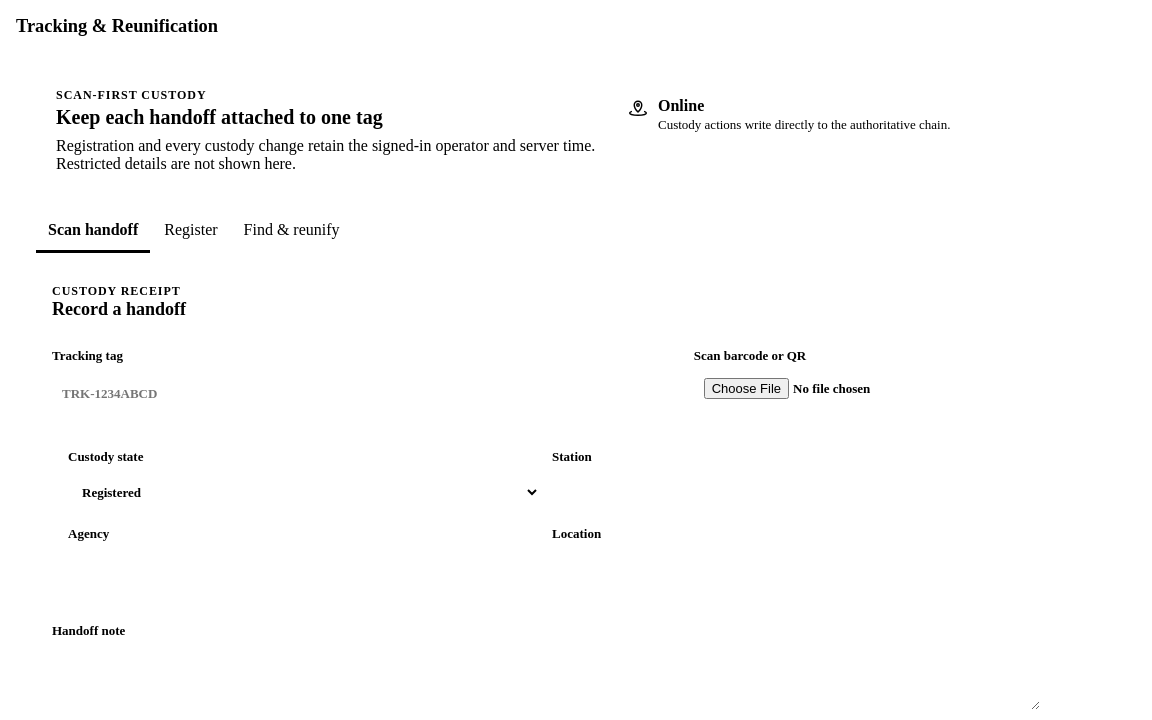
it: tracking handoff › opens an object's custody chain from the inventory and reads later events a page at a time
Click the tab "Find & reunify".
click(292, 231)  # box [232,209,352,253]
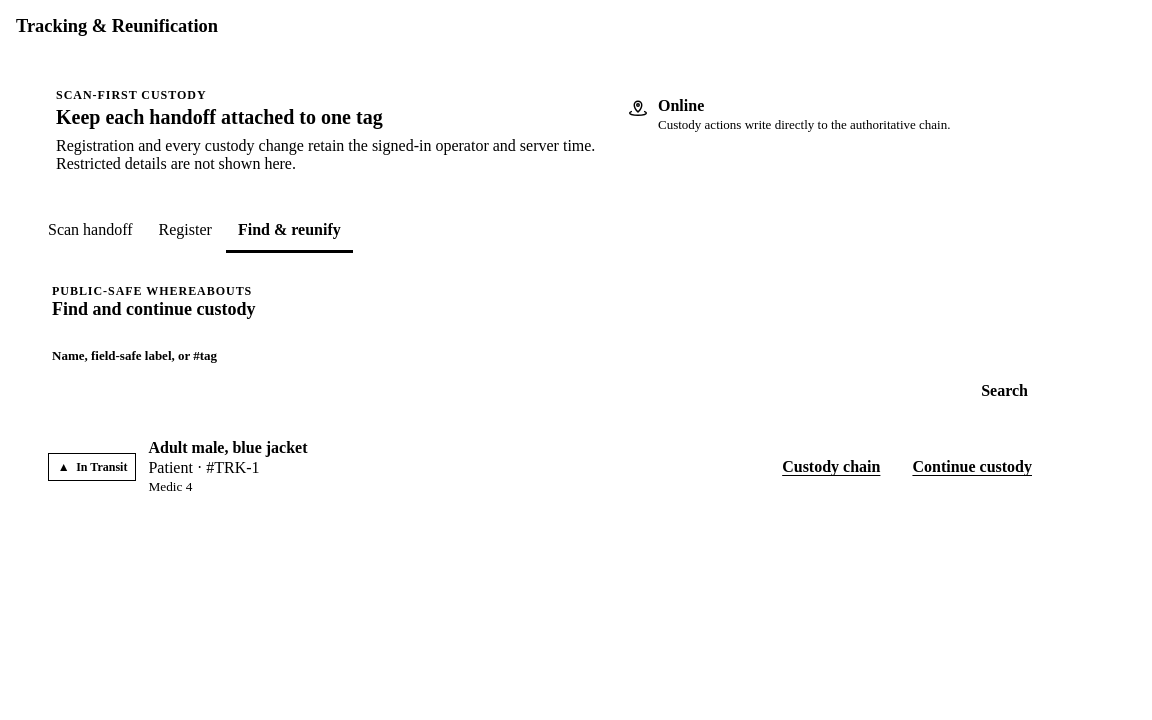
Click the button "Custody chain".
click(831, 467)  # box [770,445,892,489]
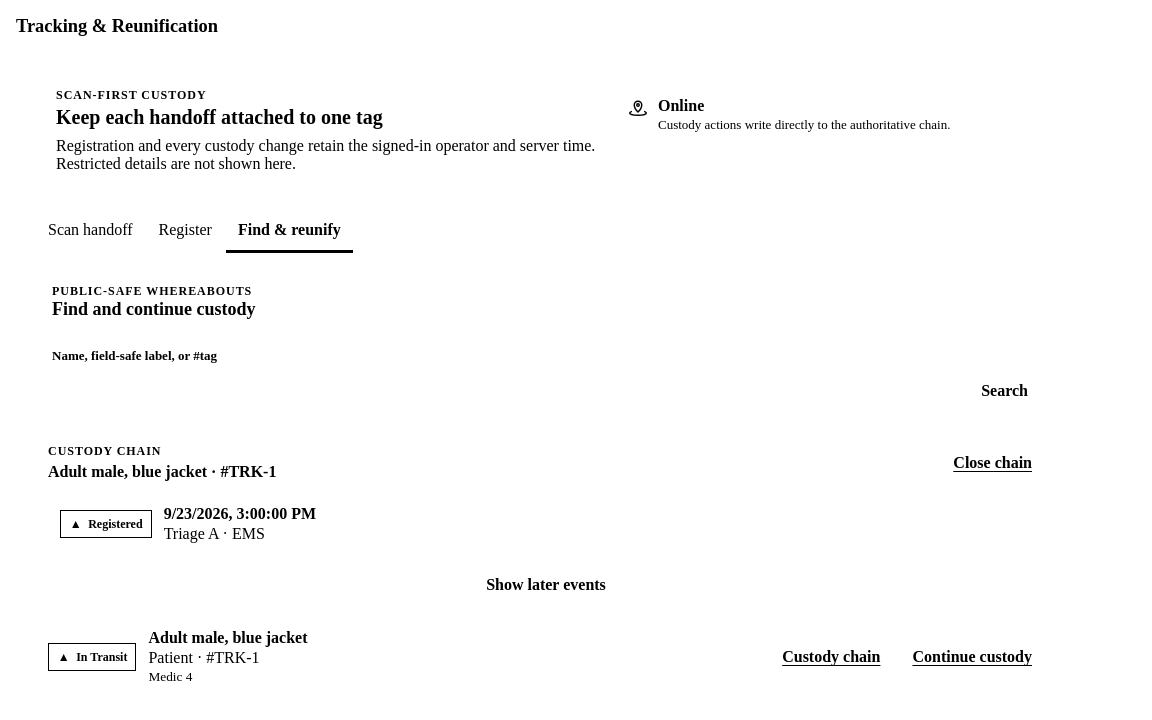
Result: the text "Triage A · EMS" is shown at [164,525,265,542]
Click the button "Show later events".
click(546, 585)  # box [48,563,1044,607]
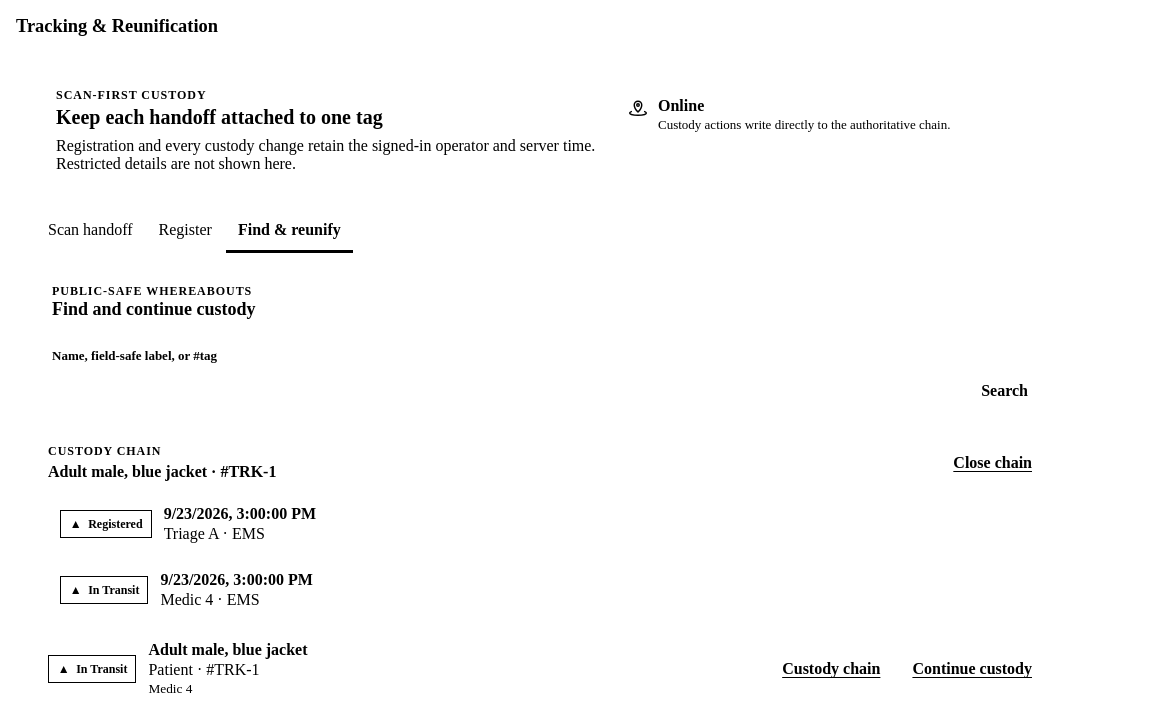
Result: the text "Medic 4 · EMS" is shown at [160,591,260,608]
Result: the button "Show later events" is gone
